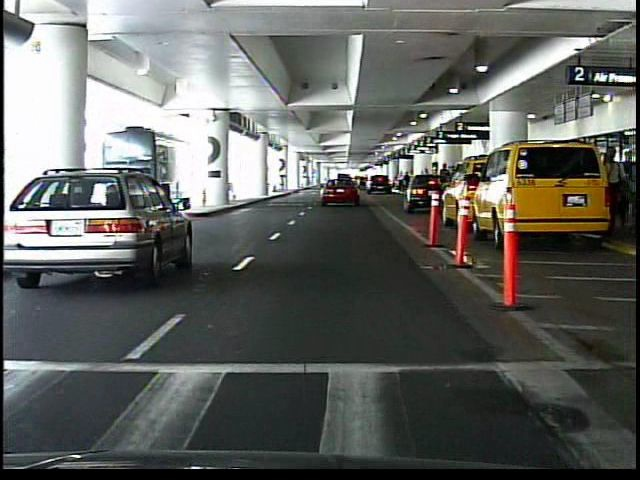person: (437, 161, 454, 208)
